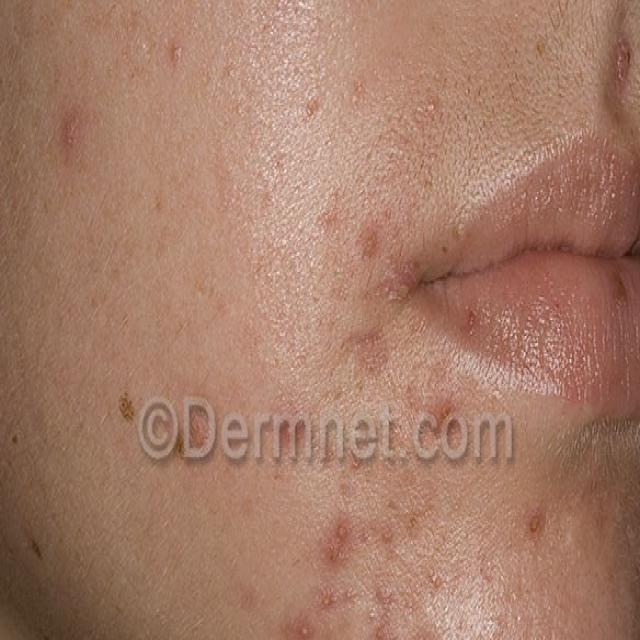Acne: (287, 425, 579, 640), (285, 80, 409, 284), (37, 65, 103, 185), (148, 31, 198, 82)
